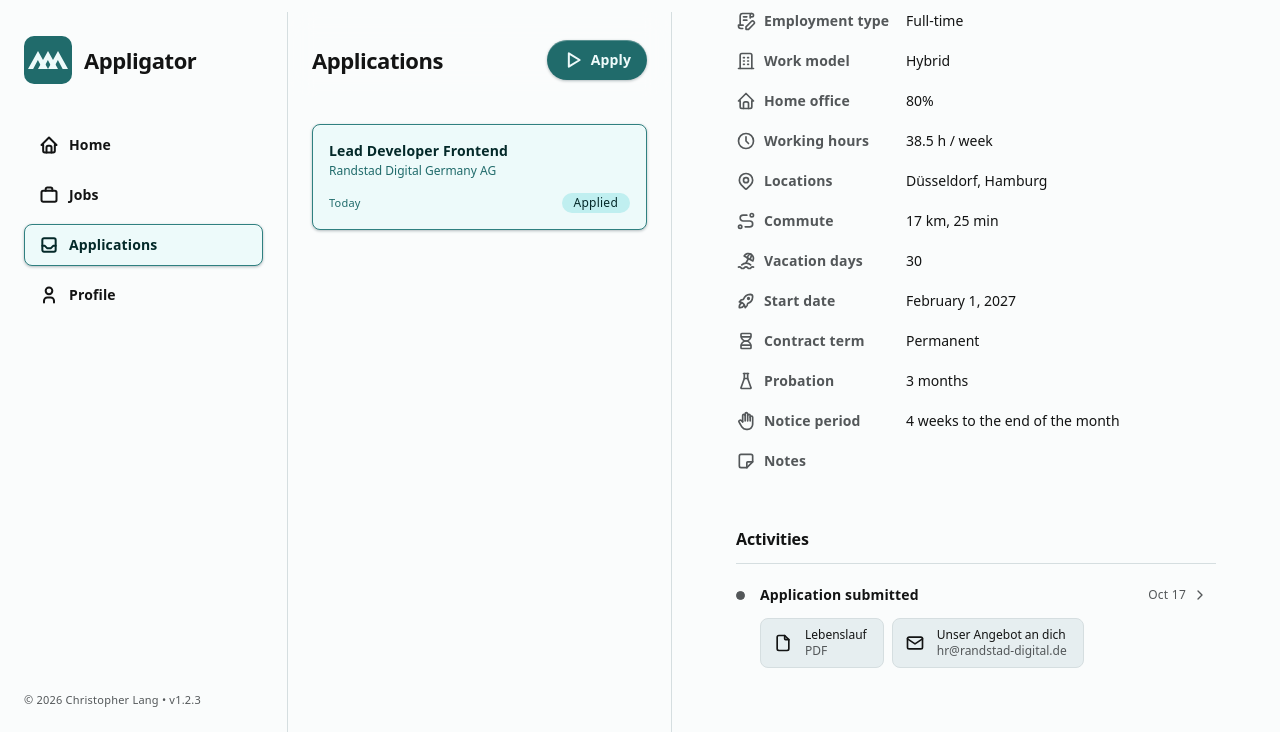
Scenario: explains when a file cannot be opened
(page scrolled)
Click the button "Lebenslauf PDF" at (822, 643), box [760,618,884,668]
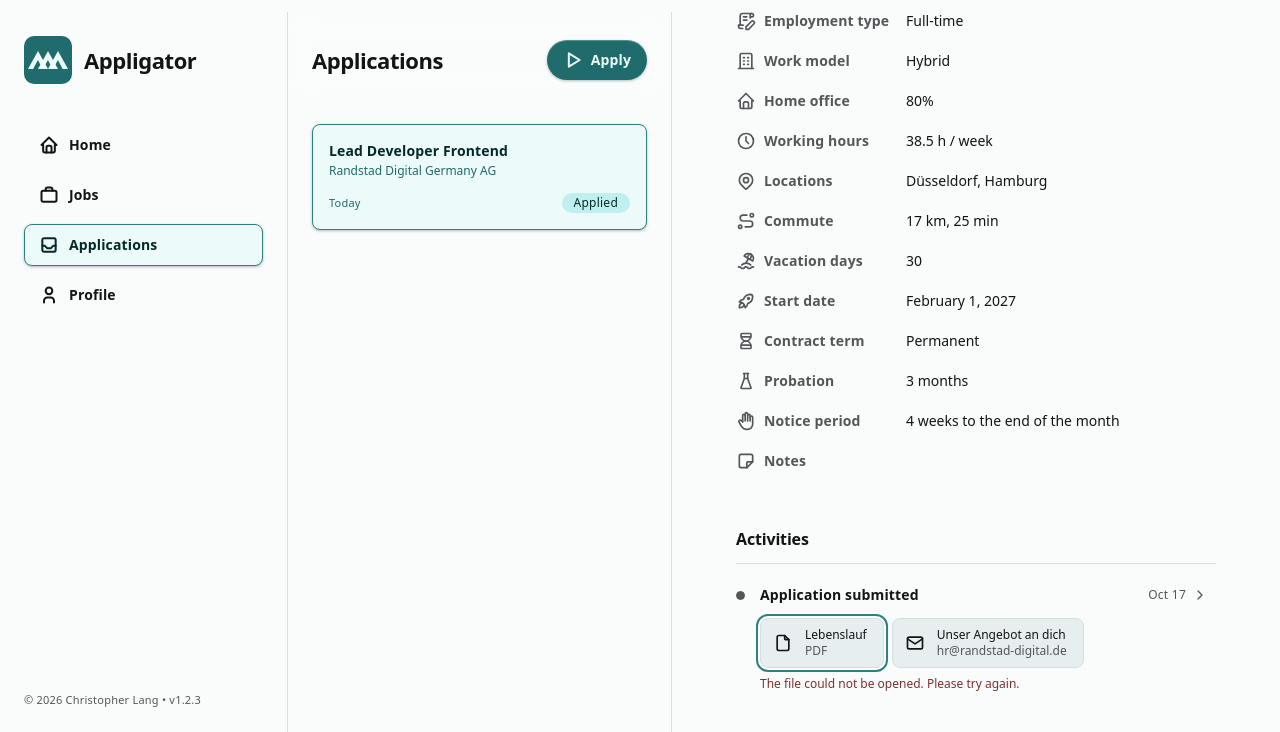
Expected: the message reads "The file could not be opened. Please try again.", [760,675,1020,692]
